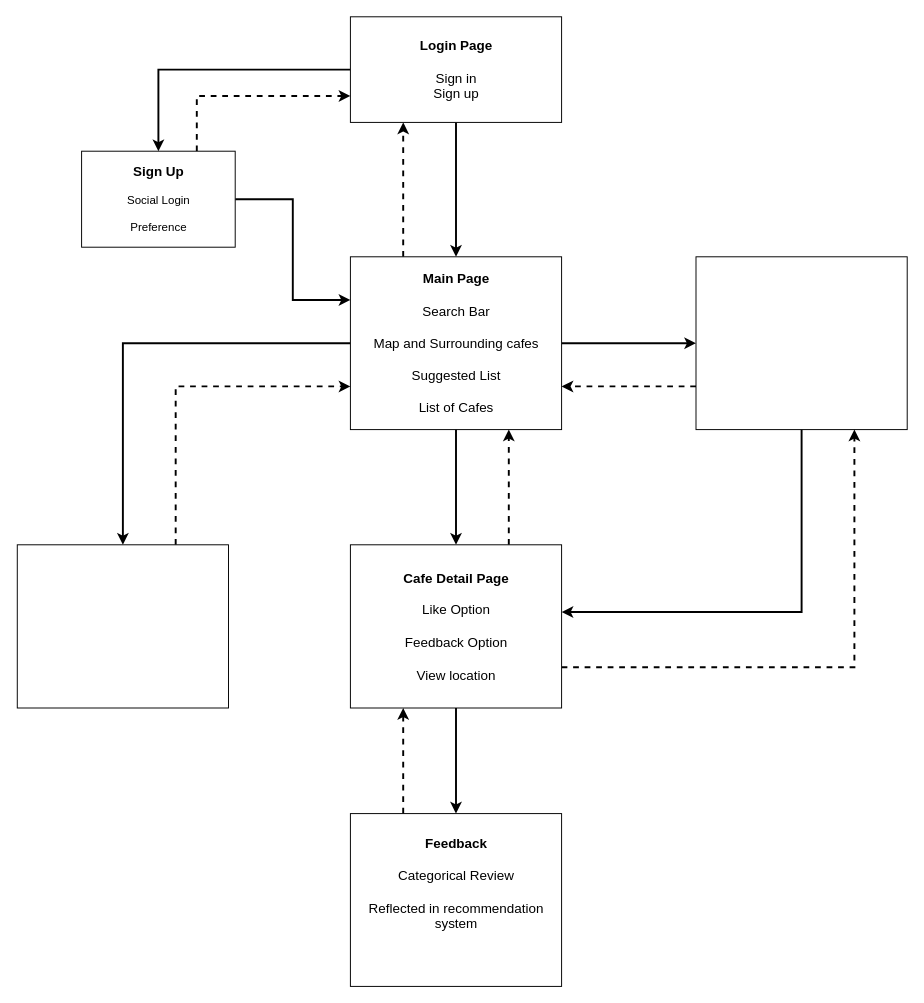
Image size: 924x1003. Some labels were removed from this diagram. Each missing label, with the box of its shape:
Search List Location-baseed List Keyword-based List: (695, 256, 907, 430)
User Info ( MyPage ) LogOut Delete Account Privacy Policy Support: (16, 544, 228, 708)
